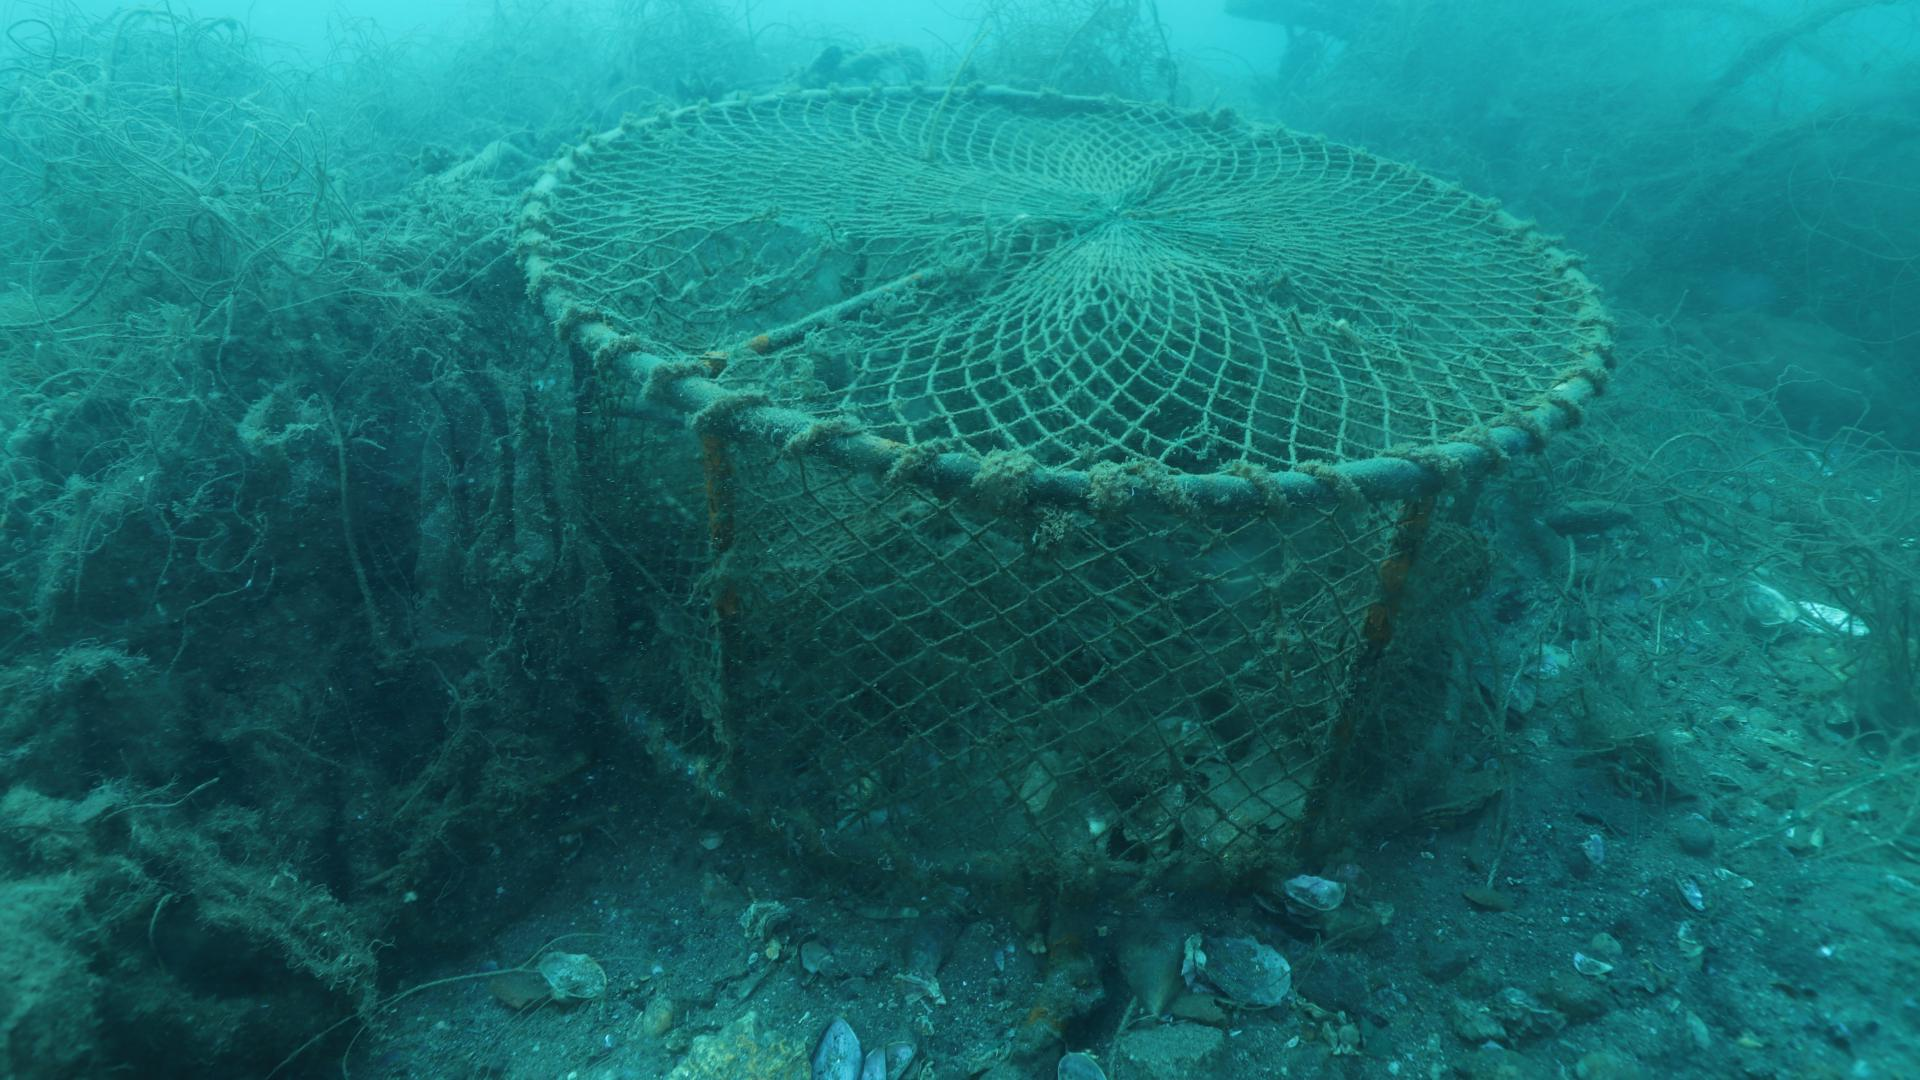circular fish trap: (513, 80, 1614, 894)
